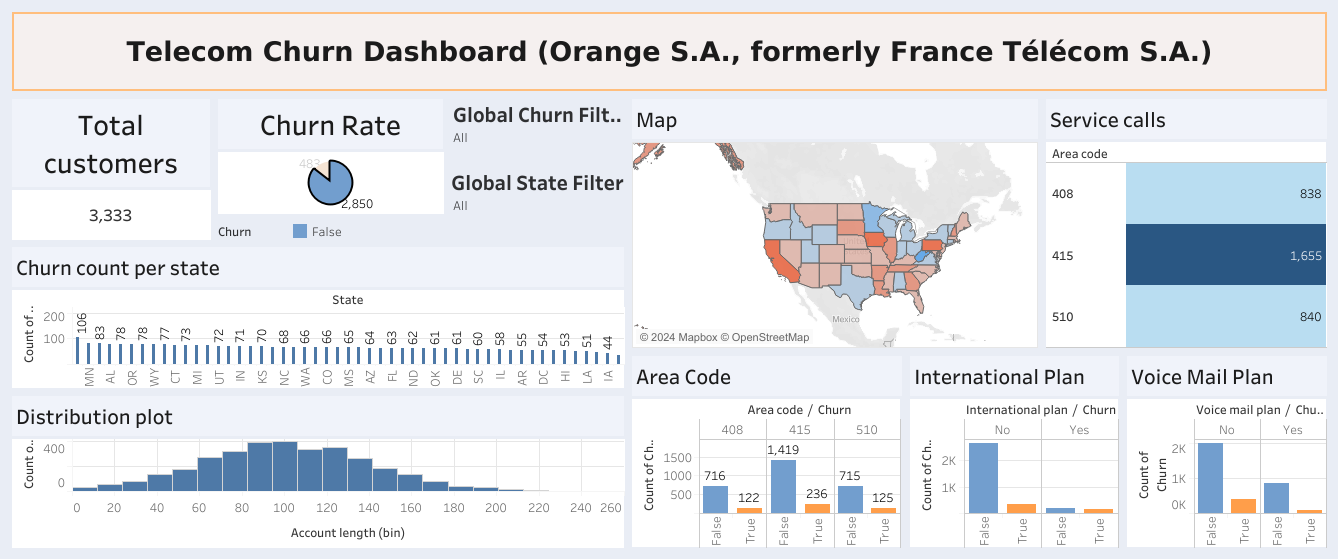

Layout of this report page (visuals, bound fields, positions):
{"tool":"tableau","page":{"name":"Telecom Churn Dashboard (Orange S.A., formerly France Télécom S.A.)","canvas":[1000,1000],"units":"permille","ordinal":0},"visuals":[{"type":"title","box":[7.1,13.8,985.8,150.5]},{"type":"worksheet","title":"Total customers","mark":"Automatic","box":[7.1,164.4,153.2,266.4]},{"type":"worksheet","title":"Churn Rate","mark":"Pie","box":[160.3,164.4,173.7,220.1]},{"type":"filter","title":"Churn Rate","param":"[federated.0f5qrm31atg91413yyffr0k5cy2a].[none:Churn:nk]","box":[334,164.4,134.9,122.1]},{"type":"worksheet","title":"Map","mark":"Automatic","box":[468.9,164.4,308.9,461.9]},{"type":"worksheet","title":"Service calls","mark":"Square","rows":["Area code"],"box":[777.8,164.4,215.1,461.9]},{"type":"filter","title":"Churn count per state","param":"[federated.0f5qrm31atg91413yyffr0k5cy2a].[none:State:nk]","box":[334,286.4,134.9,144.4]},{"type":"legend","title":"Churn Rate","param":"[federated.0f5qrm31atg91413yyffr0k5cy2a].[none:Churn:nk]","box":[160.3,384.4,173.7,46.4]},{"type":"worksheet","title":"Churn count per state","mark":"Bar","rows":["Churn"],"cols":["State"],"box":[7.1,430.8,461.8,268]},{"type":"worksheet","title":"Area Code","mark":"Bar","rows":["Churn"],"cols":["Area code","Churn"],"box":[468.9,626.3,207.6,359.9]},{"type":"worksheet","title":"International Plan","mark":"Automatic","rows":["Churn"],"cols":["International plan","Churn"],"box":[676.5,626.3,161.5,359.9]},{"type":"worksheet","title":"Voice Mail Plan","mark":"Automatic","rows":["Churn"],"cols":["Voice mail plan","Churn"],"box":[838,626.3,154.9,359.9]},{"type":"worksheet","title":"Distribution plot","mark":"Automatic","rows":["Account length"],"cols":["Account length (bin)"],"box":[7.1,698.8,461.8,287.4]}]}

Visuals, with their boxes on the dashboard's canvas, which has no fixed pixel size, in thousandths of its width and height (x1, y1, x2, y2). These are canvas units, not pixel positions in the 1338x559 screenshot, which may show the page scaled, cropped or inside an application window:
title: region(7, 14, 993, 164)
"Total customers" worksheet: region(7, 164, 160, 431)
"Churn Rate" worksheet (Pie marks): region(160, 164, 334, 384)
"Churn Rate" filter: region(334, 164, 469, 286)
"Map" worksheet: region(469, 164, 778, 626)
"Service calls" worksheet (Square marks): region(778, 164, 993, 626)
"Churn count per state" filter: region(334, 286, 469, 431)
"Churn Rate" legend: region(160, 384, 334, 431)
"Churn count per state" worksheet (Bar marks): region(7, 431, 469, 699)
"Area Code" worksheet (Bar marks): region(469, 626, 676, 986)
"International Plan" worksheet: region(676, 626, 838, 986)
"Voice Mail Plan" worksheet: region(838, 626, 993, 986)
"Distribution plot" worksheet: region(7, 699, 469, 986)
